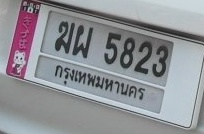txt04: (53, 20, 75, 54)
txt23: (70, 24, 95, 59)
